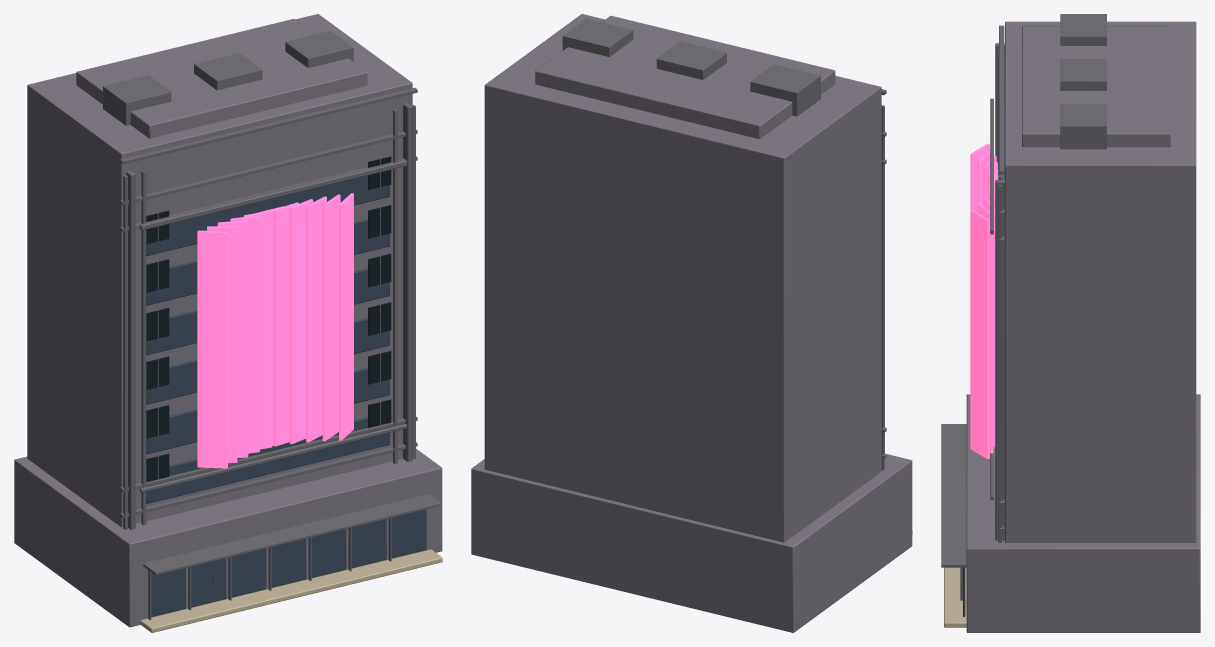
Rendered from qfront.glb.
3 renders of one model, left to right at view 1: azimuth 30°, elevation 25°; view 2: azimuth 150°, elevation 25°; view 3: azimuth 270°, elevation 25°, orthographic. The views are drawn at different scales.
Visible parts, largest first — view 1: Detail.qfront.Mass, Detail.qfront.Screen, Detail.qfront.Detail.Metal, Detail.qfront.Glass, Detail.qfront.Detail.Glass, Detail.qfront.Metal, Detail.qfront.Detail.Dark, Detail.qfront.Detail.Stone; view 2: Detail.qfront.Mass, Detail.qfront.Detail.Metal; view 3: Detail.qfront.Mass, Detail.qfront.Detail.Metal, Detail.qfront.Screen, Detail.qfront.Metal, Detail.qfront.Detail.Stone.
Boxes of the visible parts, left/top/right/bottom form: Detail.qfront.Mass: left=14, top=14, right=442, bottom=627; Detail.qfront.Screen: left=197, top=193, right=353, bottom=468; Detail.qfront.Detail.Metal: left=103, top=31, right=441, bottom=619; Detail.qfront.Glass: left=146, top=175, right=389, bottom=503; Detail.qfront.Detail.Glass: left=151, top=509, right=426, bottom=616; Detail.qfront.Metal: left=126, top=103, right=412, bottom=529; Detail.qfront.Detail.Dark: left=146, top=156, right=391, bottom=486; Detail.qfront.Detail.Stone: left=140, top=549, right=442, bottom=632; Detail.qfront.Mass: left=471, top=14, right=912, bottom=632; Detail.qfront.Detail.Metal: left=562, top=18, right=886, bottom=470; Detail.qfront.Mass: left=966, top=21, right=1200, bottom=632; Detail.qfront.Detail.Metal: left=941, top=14, right=1106, bottom=600; Detail.qfront.Screen: left=970, top=143, right=998, bottom=459; Detail.qfront.Metal: left=990, top=43, right=1004, bottom=540; Detail.qfront.Detail.Stone: left=944, top=567, right=966, bottom=627.
Size of the model in its own units: 17.2 by 25.2 by 12.19.
